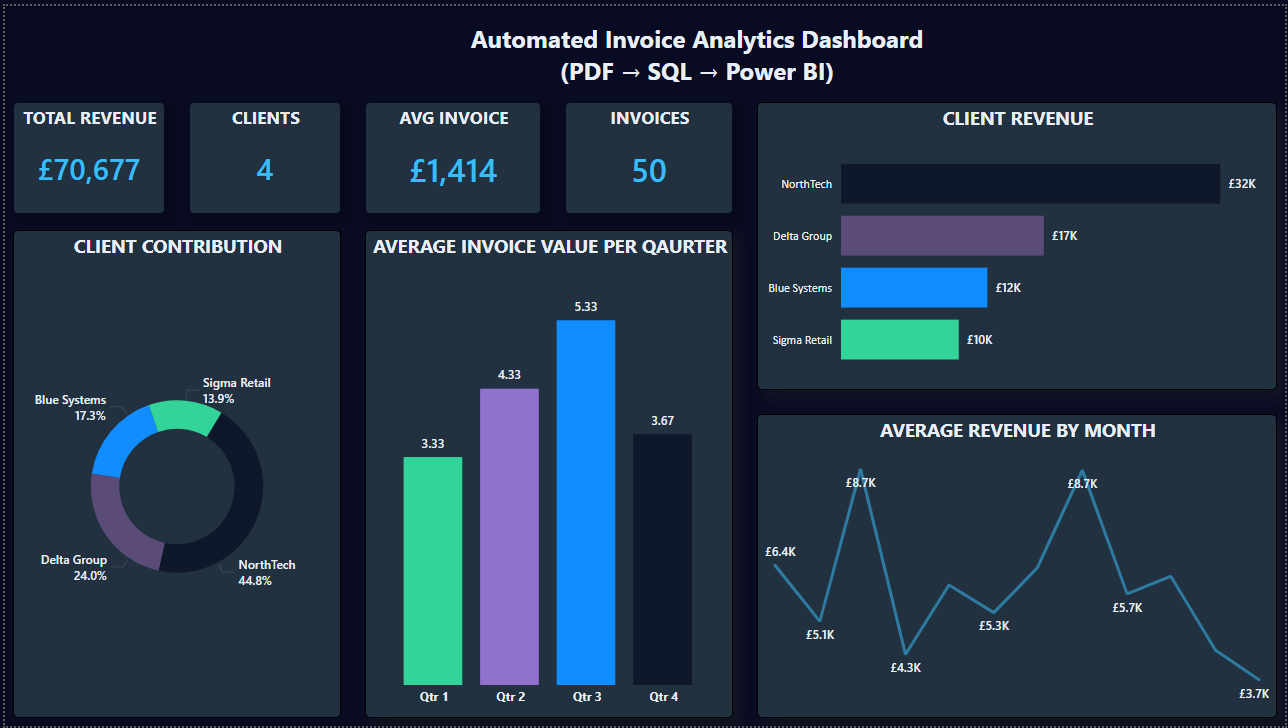

This screenshot's page, from the dashboard's own definition file:
{"tool":"powerbi","page":{"name":"Page 1","canvas":[1280,720],"ordinal":0},"visuals":[{"type":"card","title":"TOTAL REVENUE","fields":{"Values":["Sum(public v_client_revenue.total_revenue)"]},"box":[8,96,152,112],"z":0},{"type":"card","title":"INVOICES","fields":{"Values":["Sum(public v_client_revenue.invoice_count)"]},"box":[560,96,168,112],"z":1000},{"type":"card","title":"AVG INVOICE","fields":{"Values":["Sum(public v_invoice_kpis.avg_invoice_value)"]},"box":[360,96,176,112],"z":2000},{"type":"lineChart","title":"AVERAGE REVENUE BY MONTH","fields":{"Category":["public v_monthly_invoice_performance.month.Variation.Date Hierarchy.Month"],"Y":["Avg(public v_monthly_invoice_performance.revenue)"]},"box":[752,408,520,304],"z":3000},{"type":"columnChart","title":"AVERAGE INVOICE VALUE PER QAURTER ","fields":{"Category":["public v_monthly_invoice_performance.month.Variation.Date Hierarchy.Quarter"],"Y":["Avg(public v_monthly_invoice_performance.invoice_count)"]},"box":[360,224,368,488],"z":4000},{"type":"donutChart","title":"CLIENT CONTRIBUTION","fields":{"Y":["Sum(public v_client_revenue.total_revenue)"],"Category":["public v_client_revenue.client_id"]},"box":[8,224,328,488],"z":5000},{"type":"barChart","title":"CLIENT REVENUE ","fields":{"Category":["public v_client_revenue.client_id"],"Y":["Sum(public v_client_revenue.total_revenue)"]},"box":[752,96,520,288],"z":6000},{"type":"card","title":"CLIENTS","fields":{"Values":["CountNonNull(public v_client_revenue.client_id)"]},"box":[184,96,152,112],"z":7000},{"type":"textbox","title":"Automated Invoice Analytics Dashboard (PDF → SQL → Power BI)","box":[448,16,488,64],"z":9000}]}

Visuals, with their boxes in screenshot pixels (x1, y1, x2, y2), scaled from the page's 1280x720 canvas onto the 1288x728 screenshot:
"TOTAL REVENUE" card: l=8, t=97, r=161, b=210
"INVOICES" card: l=564, t=97, r=733, b=210
"AVG INVOICE" card: l=362, t=97, r=539, b=210
"AVERAGE REVENUE BY MONTH" lineChart: l=757, t=413, r=1280, b=720
"AVERAGE INVOICE VALUE PER QAURTER " columnChart: l=362, t=226, r=733, b=720
"CLIENT CONTRIBUTION" donutChart: l=8, t=226, r=338, b=720
"CLIENT REVENUE " barChart: l=757, t=97, r=1280, b=388
"CLIENTS" card: l=185, t=97, r=338, b=210
"Automated Invoice Analytics Dashboard (PDF → SQL → Power BI)" textbox: l=451, t=16, r=942, b=81
